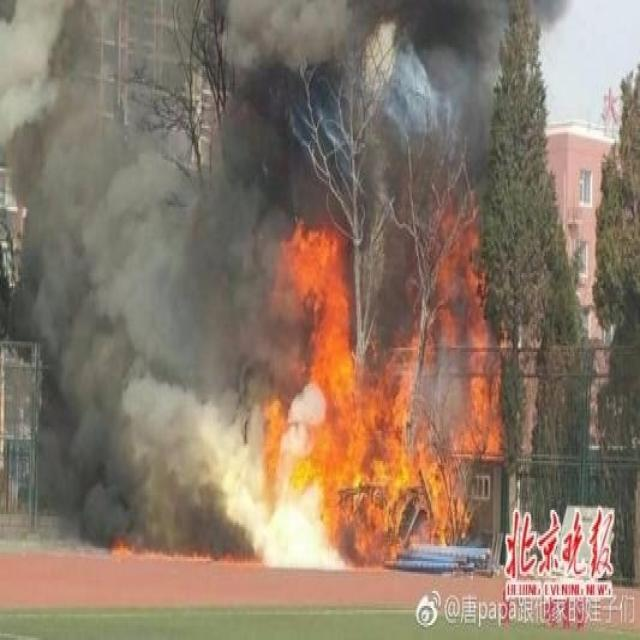Fire: (260, 213, 508, 570)
Smoke: (1, 2, 574, 578)
